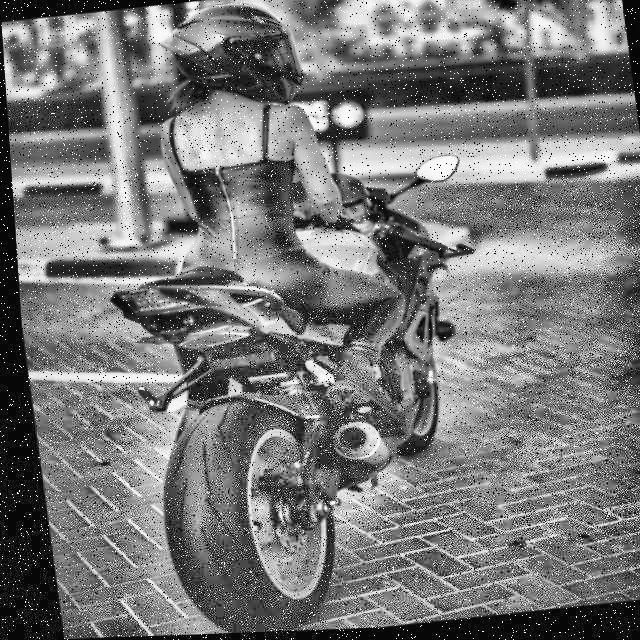Helmet: (147, 0, 312, 122)
